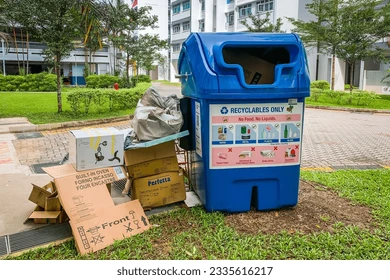bin_empty: (178, 33, 309, 211)
bulk_waste: (45, 165, 150, 253), (131, 87, 183, 140), (68, 127, 123, 170), (132, 169, 185, 207), (125, 141, 178, 178), (28, 182, 66, 223), (29, 184, 52, 206)
